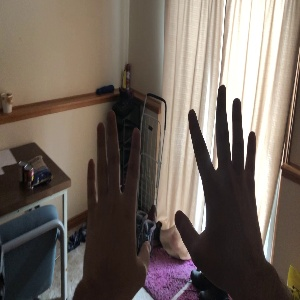hand: (175, 85, 265, 265), (85, 110, 150, 282)
